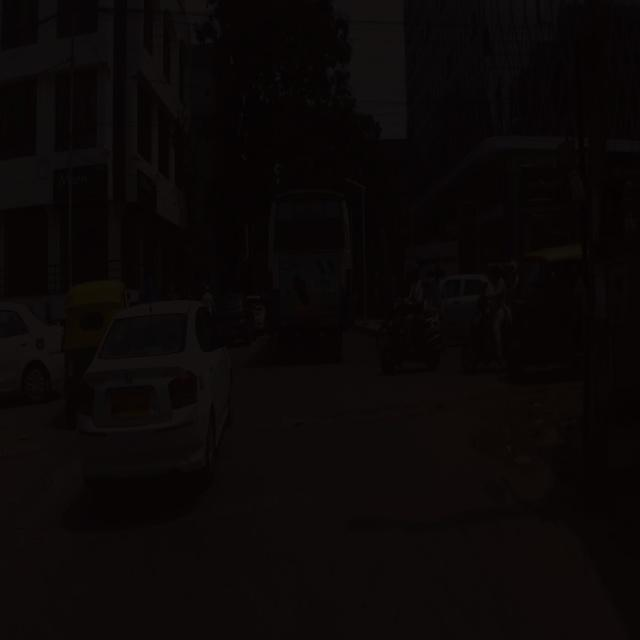Pothole: (288, 398, 452, 422)
